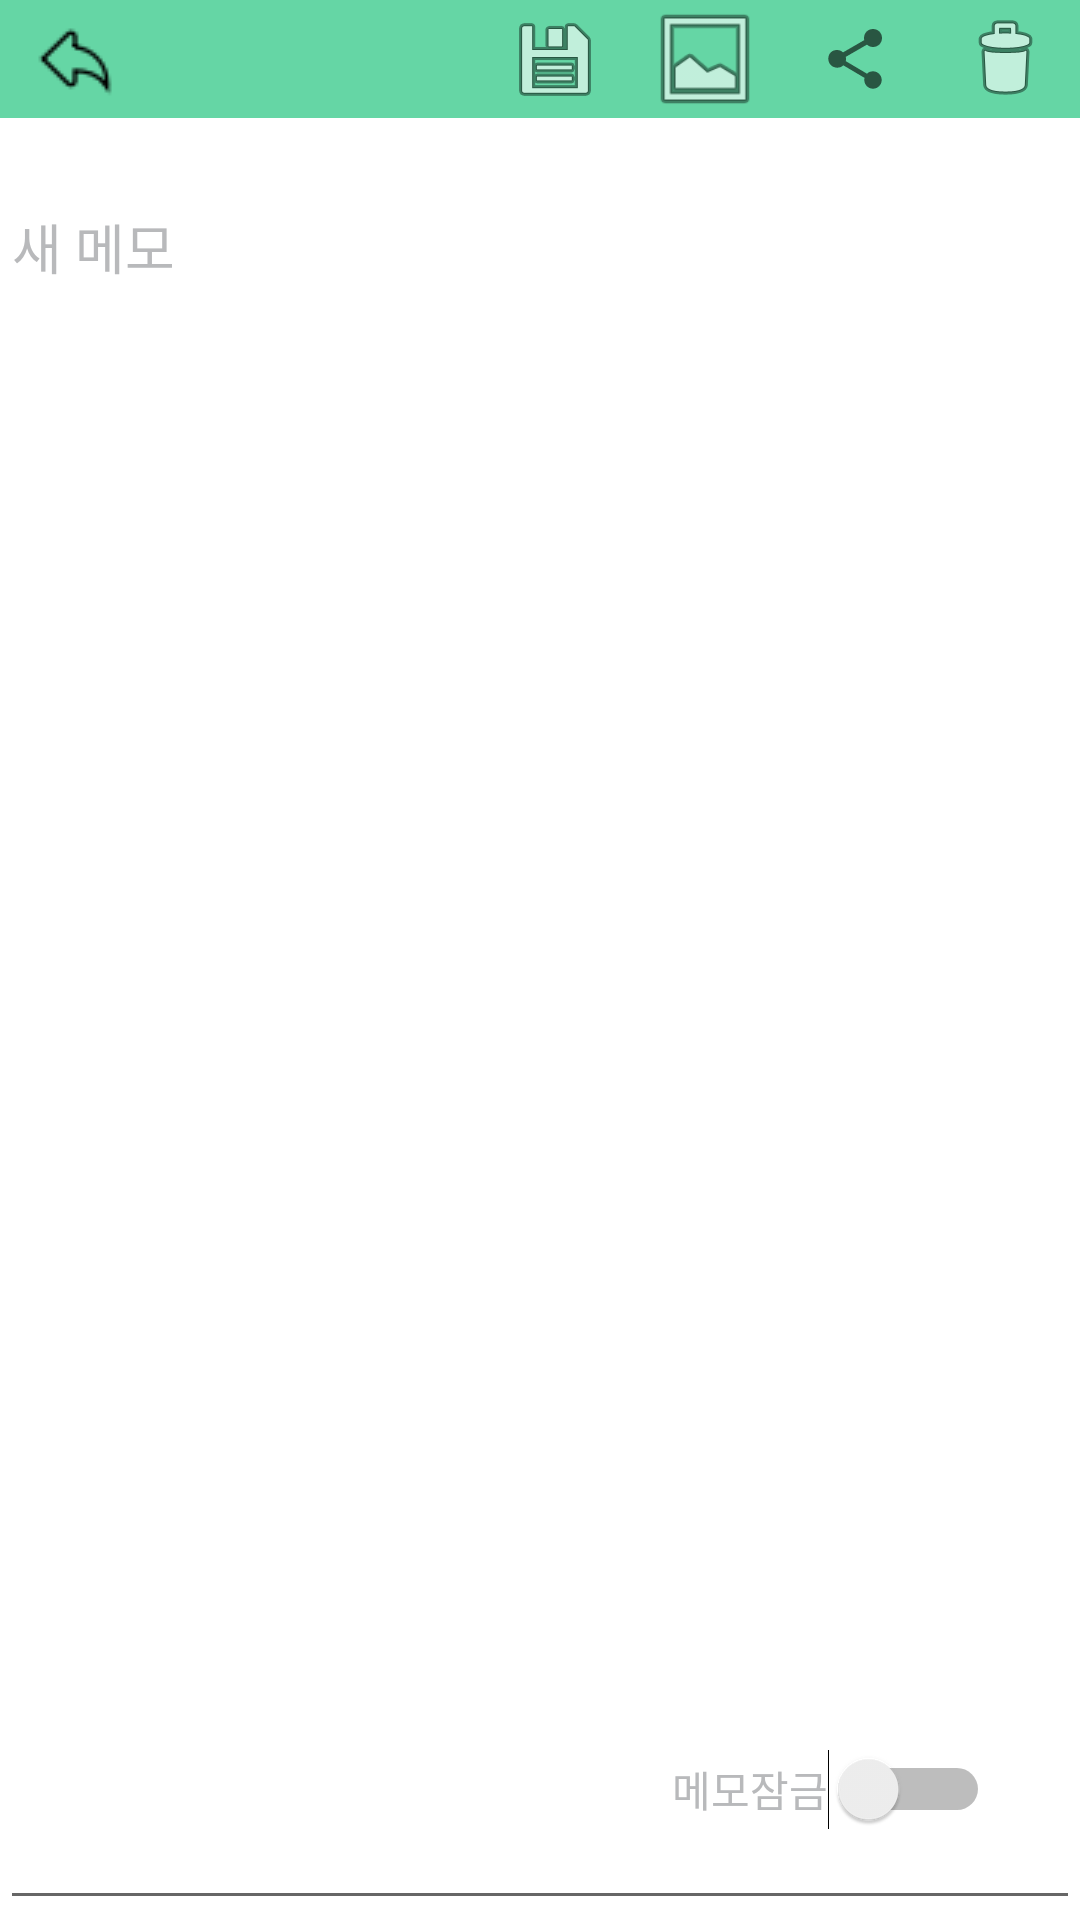

Point at icon controls on the screen. Image size 1080px x 1920px, points as (x=x, y=y).
backicon: (x=75, y=60)
delete: (x=1005, y=57)
gallery: (x=705, y=59)
save: (x=555, y=59)
